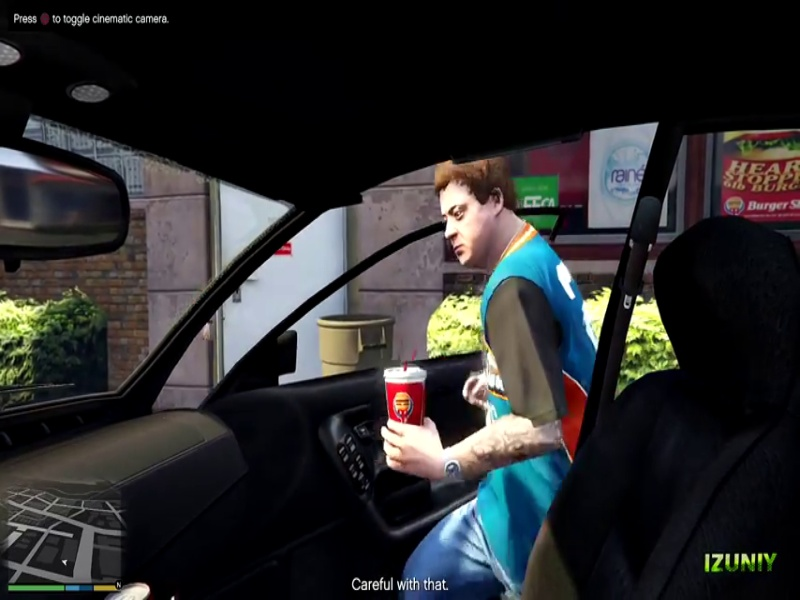human: (420, 160, 594, 451)
